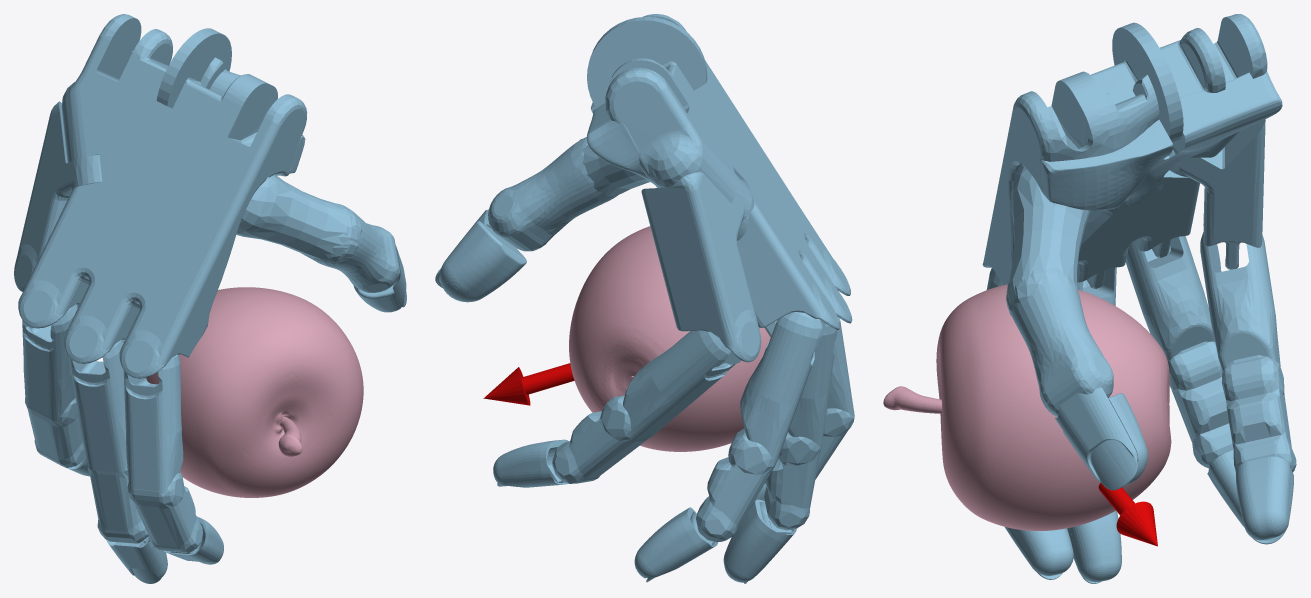
The picture shows the model from 3 angles, left to right: view 1: azimuth 30°, elevation 25°; view 2: azimuth 150°, elevation 25°; view 3: azimuth 270°, elevation 25°; orthographic projection. The views are drawn at different scales.
Visible parts, largest first — view 1: world, apple.stl; view 2: world, apple.stl; view 3: world, apple.stl.
Boxes of the visible parts, left/top/right/bottom form: world: left=14, top=14, right=406, bottom=583; apple.stl: left=146, top=287, right=363, bottom=497; world: left=435, top=14, right=854, bottom=583; apple.stl: left=569, top=226, right=770, bottom=451; world: left=982, top=14, right=1296, bottom=583; apple.stl: left=883, top=284, right=1171, bottom=530.
Bounding box in the file's own units: 0.1528 × 0.2012 × 0.1267.
